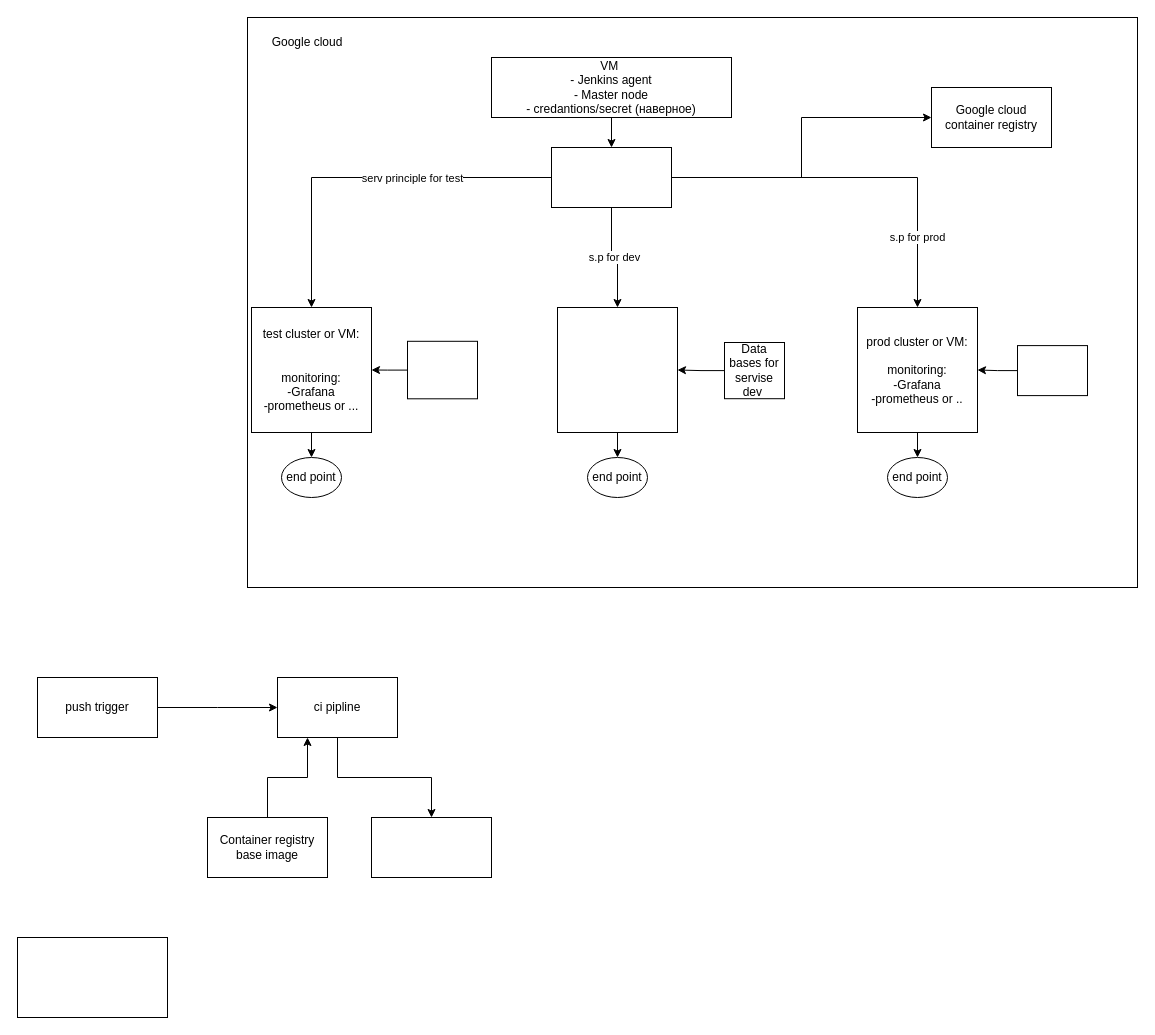
Image size: 1155x1035. Some labels were removed from this diagram. Each missing label, with the box of its shape:
Container registry build image: (370, 816, 492, 878)
Data bases for servise prod: (1016, 345, 1088, 396)
Data bases for servise test: (406, 340, 478, 399)
dev cluster or VM: monitoring: -Grafana -prometheus or ..: (556, 306, 678, 432)
infrastructure pipline with ansible to Denloy: (16, 936, 168, 1018)
VM jenkins agent: -Container for build: (550, 146, 672, 208)
